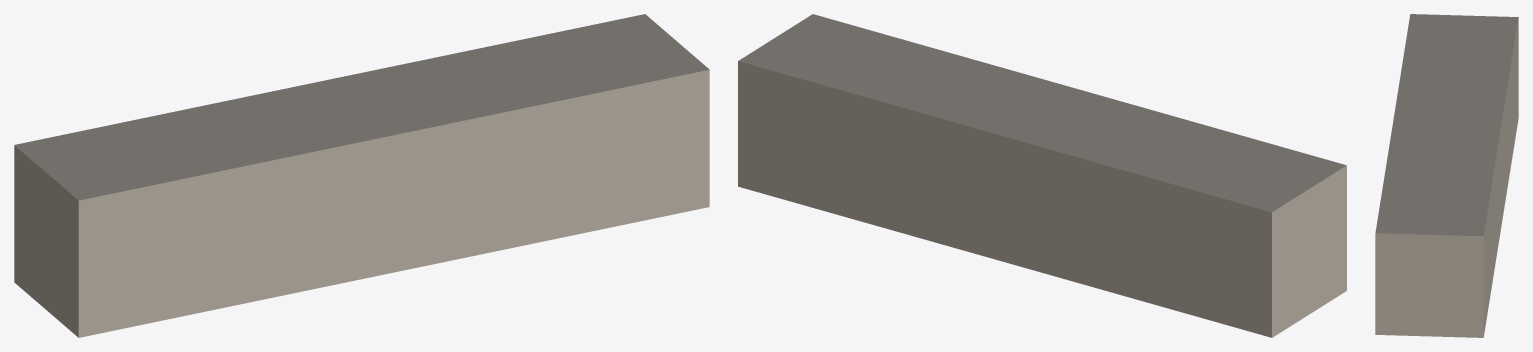
The picture shows the model from 3 angles, left to right: view 1: azimuth 30°, elevation 25°; view 2: azimuth 150°, elevation 25°; view 3: azimuth 270°, elevation 25°; orthographic projection. The views are drawn at different scales.
Parts seen in each view (by area): view 1: HP-w859488869; view 2: HP-w859488869; view 3: HP-w859488869.
Boxes of the visible parts, x1=… form: HP-w859488869: x1=14, y1=14, x2=709, y2=337; HP-w859488869: x1=738, y1=14, x2=1346, y2=337; HP-w859488869: x1=1375, y1=14, x2=1518, y2=337.
Bounding box in the file's own units: 84.5 × 18 × 22.98.
